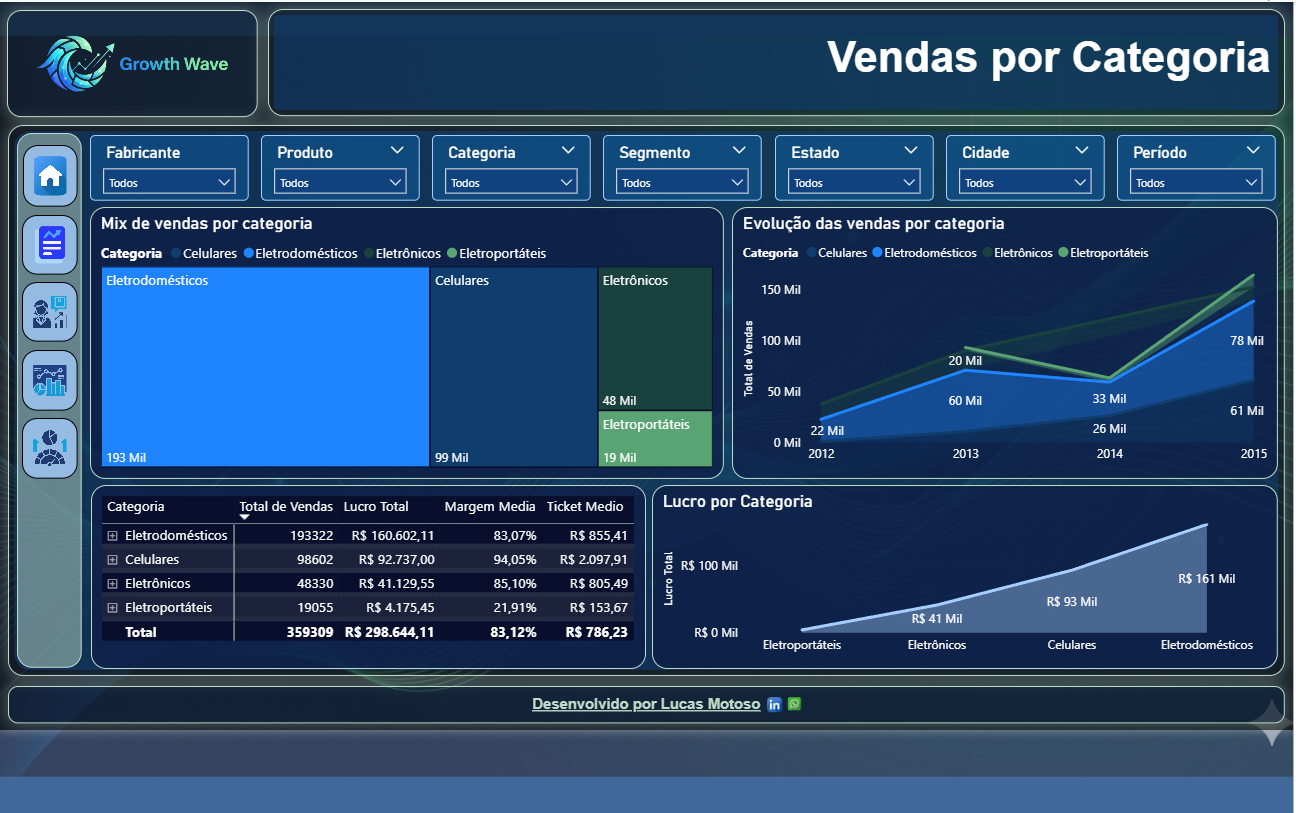

Layout of this report page (visuals, bound fields, positions):
{"tool":"powerbi","page":{"name":"Vendas por Categoria","canvas":[1280,720],"ordinal":3},"visuals":[{"type":"image","box":[8,7.9,248.4,105.7],"z":0},{"type":"textbox","box":[8.9,676.9,1262.8,36.6],"z":0,"group":"g1"},{"type":"shape","box":[8.6,121.8,1262.8,545.2],"z":1000},{"type":"image","box":[755.1,682.8,25,25],"z":1000,"group":"g1"},{"type":"shape","box":[265.8,7.4,1005.5,105.8],"z":2000},{"type":"image","box":[774.3,682.1,25,25],"z":2000,"group":"g1"},{"type":"textbox","box":[265.8,25.8,996.9,68.9],"z":3000},{"type":"shape","box":[17.8,129.6,64.3,529.5],"z":4000},{"type":"image","box":[23.3,141.5,54.4,61.4],"z":5000},{"type":"image","box":[22.8,210.3,55.4,59.4],"z":6000},{"type":"image","box":[22.8,277.1,55.4,59.4],"z":7000},{"type":"image","box":[22.8,343.9,55.4,60.4],"z":8000},{"type":"image","box":[22.8,411.7,55.4,60.4],"z":9000},{"type":"group","id":"g1","title":"Grupo 1","box":[8.9,676.9,1262.8,36.6],"z":10000}]}

Visuals, with their boxes on the page's 1280x720 design canvas (x1, y1, x2, y2). These are canvas units, not pixel positions in the 1296x813 screenshot, which may show the page scaled, cropped or inside an application window:
image: rect(8, 8, 256, 114)
textbox: rect(9, 677, 1272, 714)
shape: rect(9, 122, 1271, 667)
image: rect(755, 683, 780, 708)
shape: rect(266, 7, 1271, 113)
image: rect(774, 682, 799, 707)
textbox: rect(266, 26, 1263, 95)
shape: rect(18, 130, 82, 659)
image: rect(23, 142, 78, 203)
image: rect(23, 210, 78, 270)
image: rect(23, 277, 78, 336)
image: rect(23, 344, 78, 404)
image: rect(23, 412, 78, 472)
"Grupo 1" group: rect(9, 677, 1272, 714)
